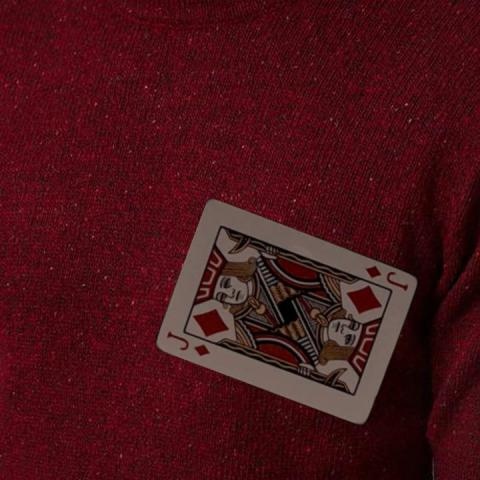Jd: (164, 327, 213, 358), (362, 262, 410, 293)
